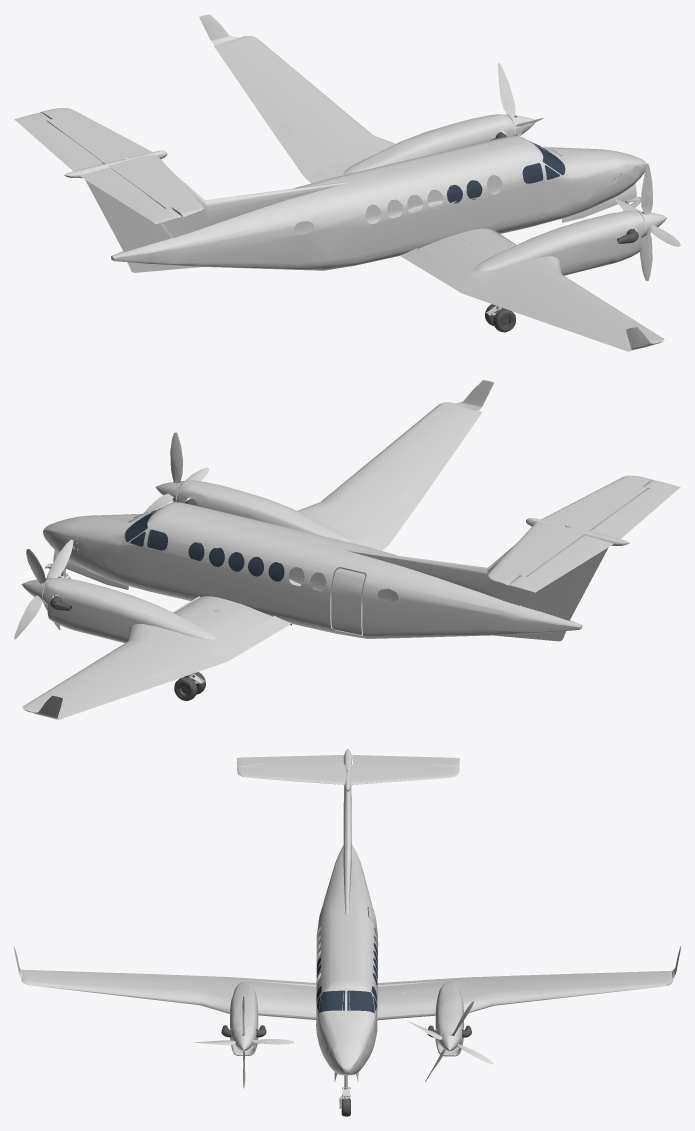
3 views of the same model, one above another, from view 1: azimuth 30°, elevation 25°; view 2: azimuth 150°, elevation 25°; view 3: azimuth 270°, elevation 25° (orthographic). The views are drawn at different scales.
Parts seen in each view (by area): view 1: body, glass, trim; view 2: body, glass, trim; view 3: body, glass.
Part boxes in pixels (<box>): body: <box>14,14,680,351</box>; glass: <box>447,141,565,203</box>; trim: <box>485,132,638,332</box>; body: <box>14,380,680,719</box>; glass: <box>125,508,284,581</box>; trim: <box>50,498,205,700</box>; body: <box>14,748,680,1108</box>; glass: <box>316,943,377,1012</box>.
Size of the model in its own units: 1.73 by 0.5612 by 2.2.
